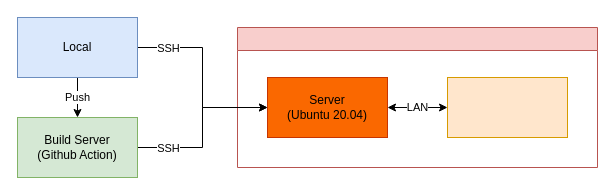
The diagram is 615 pixels wide and 195 high, and some of its shapes have lost their labels. The box of each missing label's shape, as (x1, y1, x2, y2) in pixels:
DBaaS for MariaDB: (446, 76, 568, 138)
KT Cloud: (236, 26, 598, 168)
